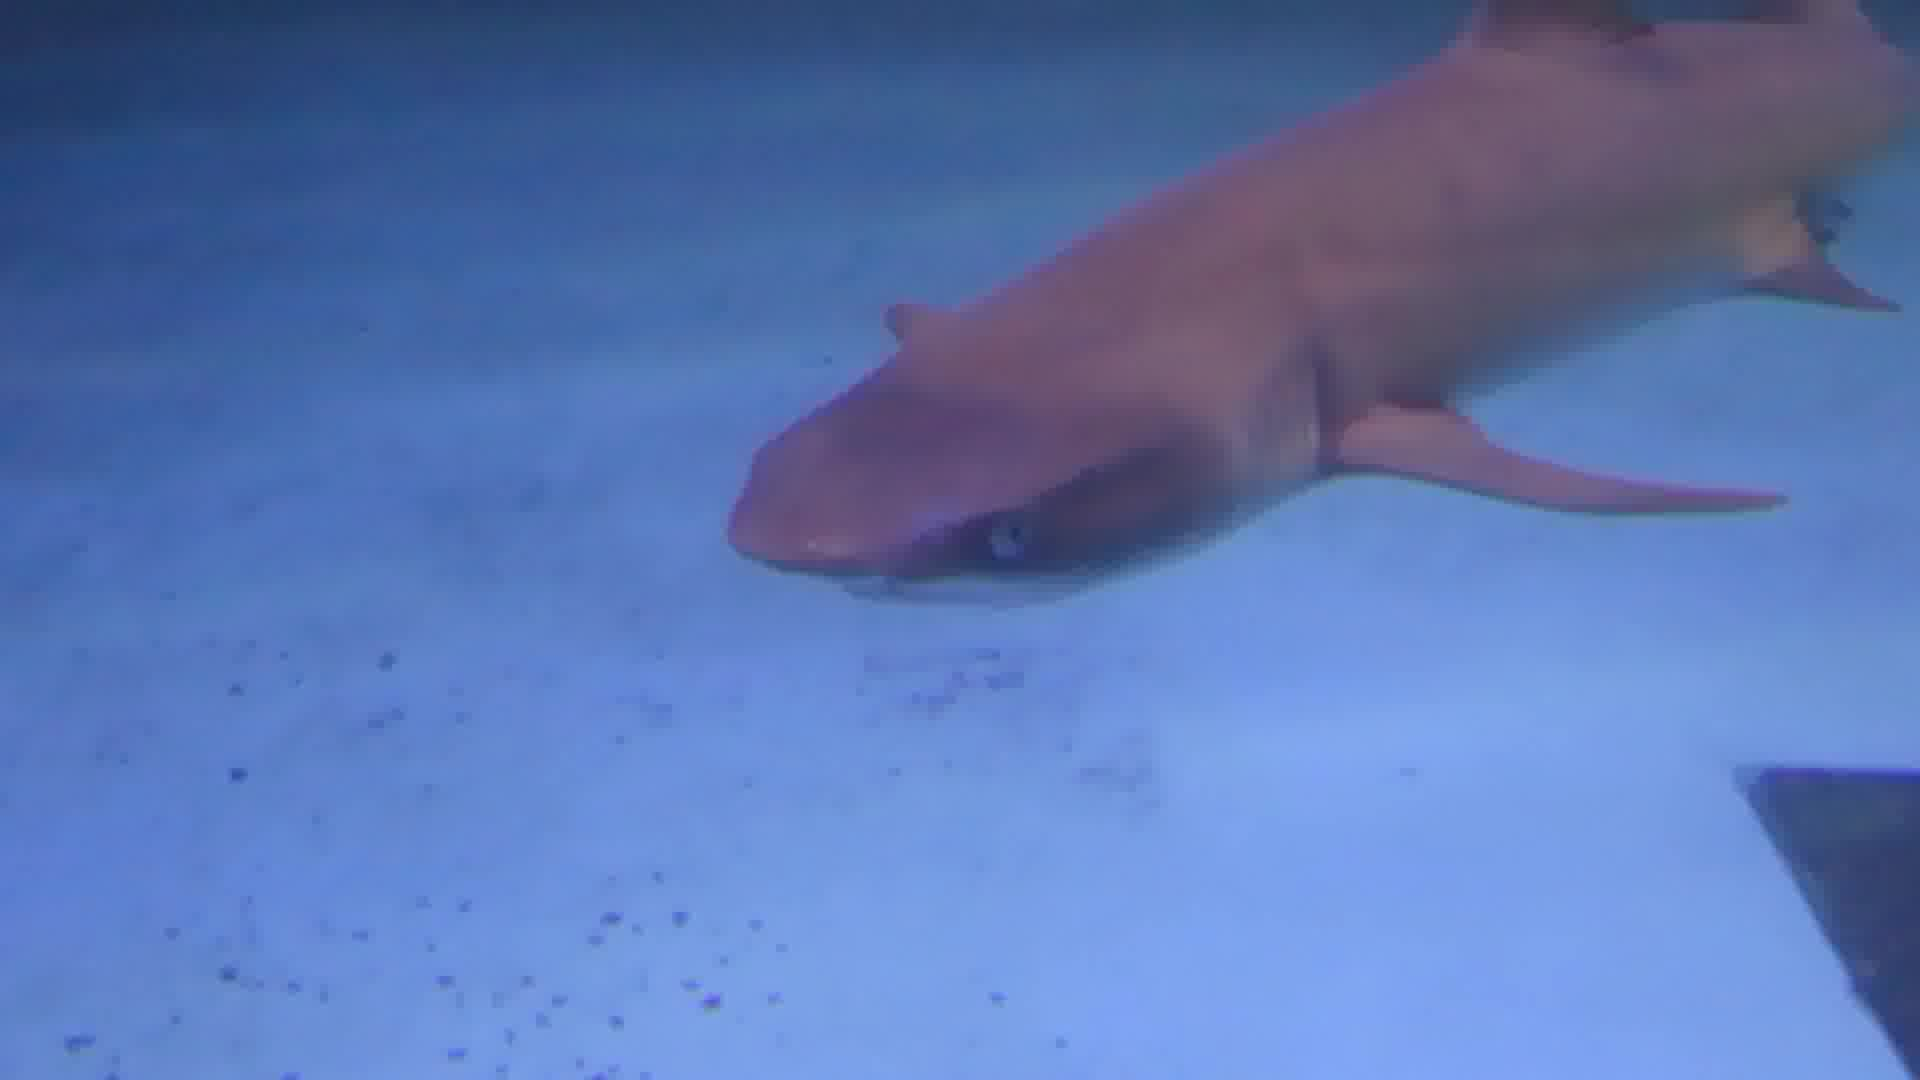Triaenodon obesus: (691, 1, 1920, 651)
